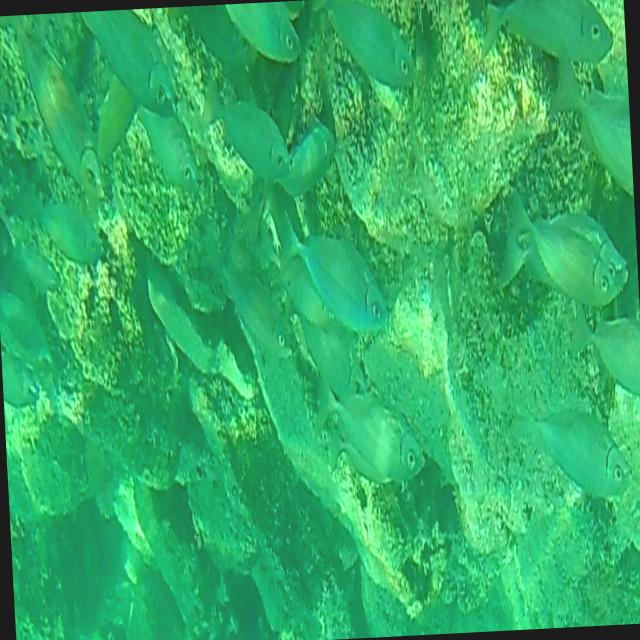Sokar Baligi: (510, 373, 634, 518), (306, 364, 431, 500), (194, 56, 293, 193), (17, 160, 109, 276)
